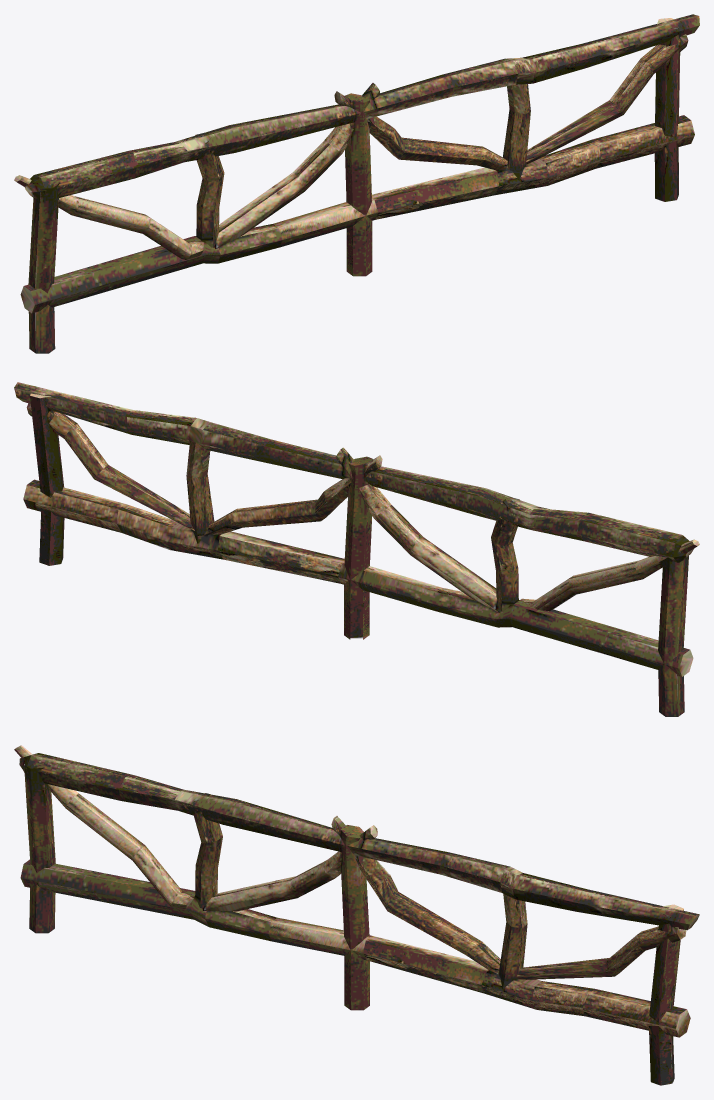
Rendered from Fence.fbx.
3 views of the same model, one above another, from view 1: azimuth 30°, elevation 25°; view 2: azimuth 150°, elevation 25°; view 3: azimuth 330°, elevation 25° (orthographic).
Visible parts, largest first — view 1: Fence; view 2: Fence; view 3: Fence.
Boxes of the visible parts, left/top/right/bottom form: Fence: left=14, top=14, right=699, bottom=353; Fence: left=14, top=382, right=699, bottom=716; Fence: left=14, top=745, right=699, bottom=1085.
Bounding box in the file's own units: 525 × 136 × 28.
Materials: 1 (1 with a texture image).
